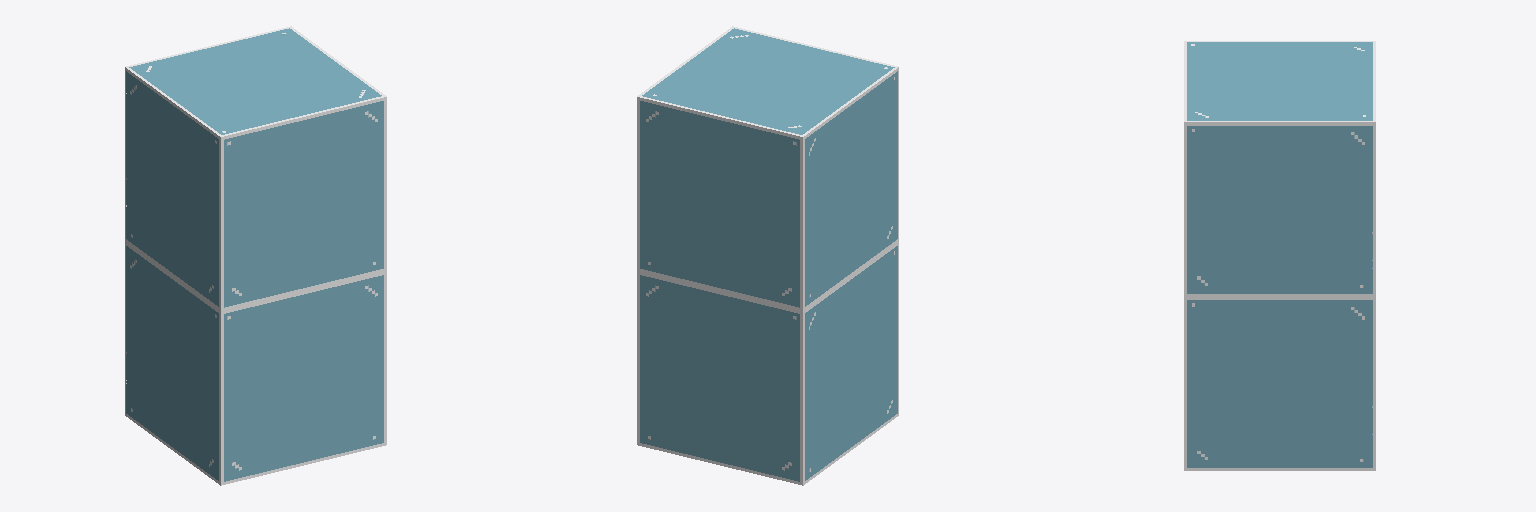
The picture shows the model from 3 angles: view 1: azimuth 30°, elevation 25°; view 2: azimuth 150°, elevation 25°; view 3: azimuth 270°, elevation 25°; orthographic projection.
Parts seen in each view (by area): view 1: pasted__pCube1; view 2: pasted__pCube1; view 3: pasted__pCube1.
Boxes of the visible parts, x1=… form: pasted__pCube1: x1=125, y1=26, x2=386, y2=485; pasted__pCube1: x1=637, y1=26, x2=898, y2=485; pasted__pCube1: x1=1184, y1=41, x2=1375, y2=470.
Size of the model in its own units: 1 by 2 by 1.
Materials: 1 (1 with a texture image).